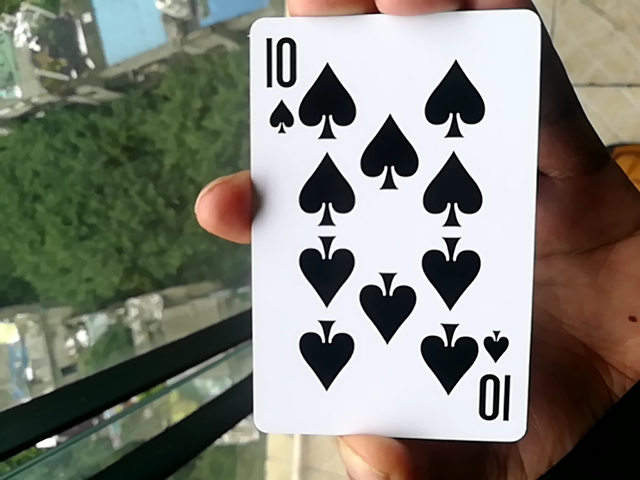ht 10: (242, 5, 539, 448)
